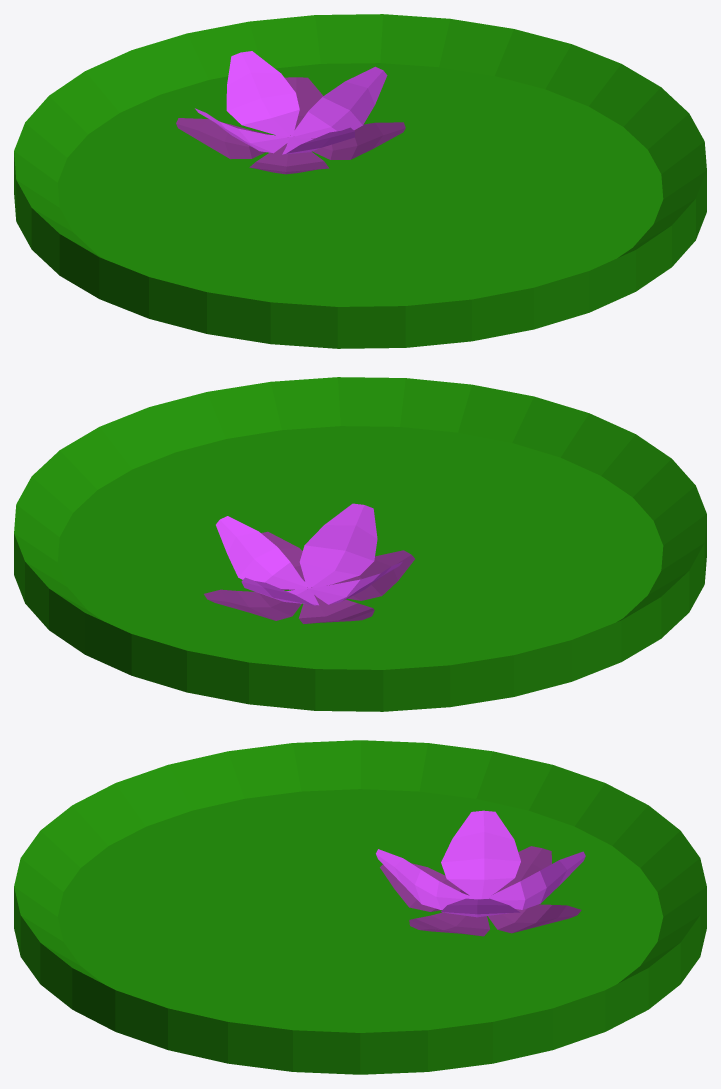
The model's file is waterlily_big_flower.obj.
3 renders of one model, top to bottom at view 1: azimuth 30°, elevation 25°; view 2: azimuth 150°, elevation 25°; view 3: azimuth 270°, elevation 25°, orthographic.
Parts seen in each view (by area): view 1: Waterlily_Cylinder.015, Flower_Purple_Plane.001; view 2: Waterlily_Cylinder.015, Flower_Purple_Plane.001; view 3: Waterlily_Cylinder.015, Flower_Purple_Plane.001.
Part boxes in pixels (x1,y1,x2,y2): Waterlily_Cylinder.015: [14, 14, 706, 348]; Flower_Purple_Plane.001: [176, 51, 405, 174]; Waterlily_Cylinder.015: [14, 377, 706, 711]; Flower_Purple_Plane.001: [204, 503, 414, 623]; Waterlily_Cylinder.015: [14, 740, 706, 1074]; Flower_Purple_Plane.001: [376, 810, 585, 936].
Bounding box in the file's own units: 0.3821 × 0.0419 × 0.3821.
